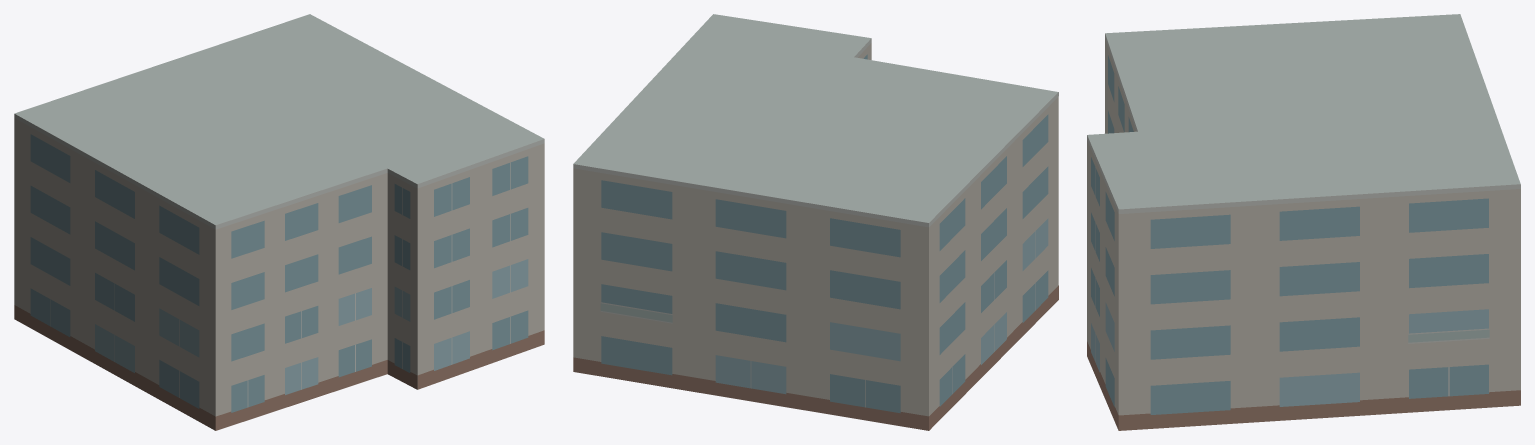
Rendered from survey-upis-32758152.glb.
The picture shows the model from 3 angles, left to right: view 1: azimuth 30°, elevation 25°; view 2: azimuth 150°, elevation 25°; view 3: azimuth 270°, elevation 25°; orthographic projection. The views are drawn at different scales.
Parts seen in each view (by area): view 1: survey-upis-32758152.tmp; view 2: survey-upis-32758152.tmp; view 3: survey-upis-32758152.tmp.
Part boxes in pixels (x1,y1,x2,y2): survey-upis-32758152.tmp: (14,14,544,430); survey-upis-32758152.tmp: (573,14,1058,430); survey-upis-32758152.tmp: (1087,14,1520,430).
Bounding box in the file's own units: 21.97 × 11.6 × 20.6.
